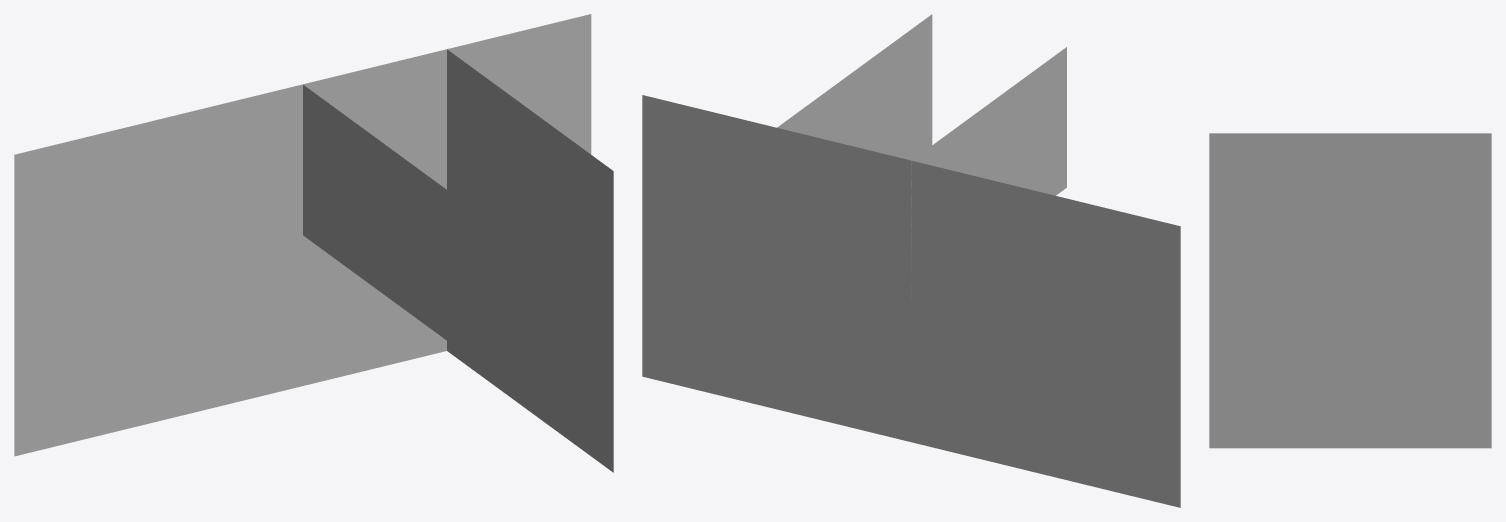
File: alpha-mask.glb
3 renders of one model, left to right at view 1: azimuth 30°, elevation 25°; view 2: azimuth 150°, elevation 25°; view 3: azimuth 270°, elevation 25°, orthographic. The views are drawn at different scales.
Bounding box in the file's own units: 4 × 2 × 2.
2 materials, 1 textured.
